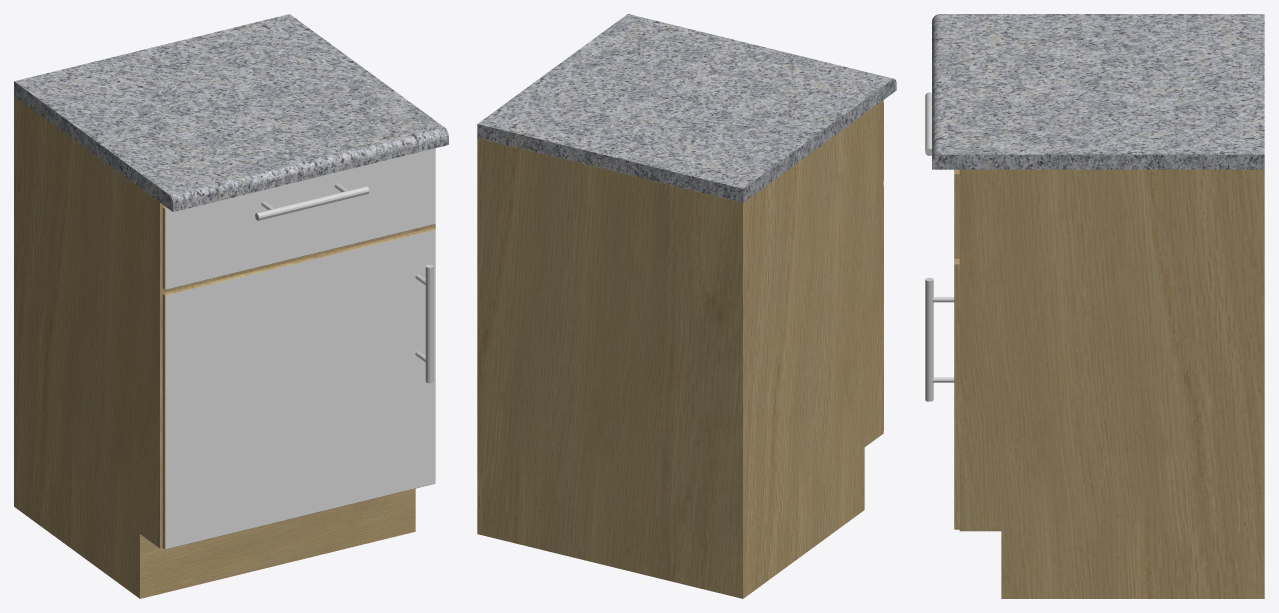
File: sweethome3d-blendswap-cc-0-lower-cabinet.glb
3 renders of one model, left to right at view 1: azimuth 30°, elevation 25°; view 2: azimuth 150°, elevation 25°; view 3: azimuth 270°, elevation 25°, orthographic. The views are drawn at different scales.
Parts seen in each view (by area): view 1: GC_100L.004_Cube.016; view 2: GC_100L.004_Cube.016; view 3: GC_100L.004_Cube.016.
Boxes of the visible parts, x1,y1,x2,y2 form: GC_100L.004_Cube.016: (14, 14, 448, 598); GC_100L.004_Cube.016: (477, 14, 896, 598); GC_100L.004_Cube.016: (925, 14, 1264, 598).
Size of the model in its own units: 60 by 88.48 by 61.25.
7 materials, 5 textured.
